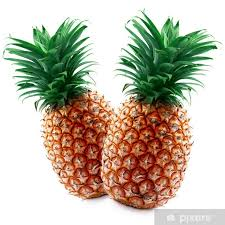pineapple: (101, 97, 194, 212), (33, 93, 120, 204)
